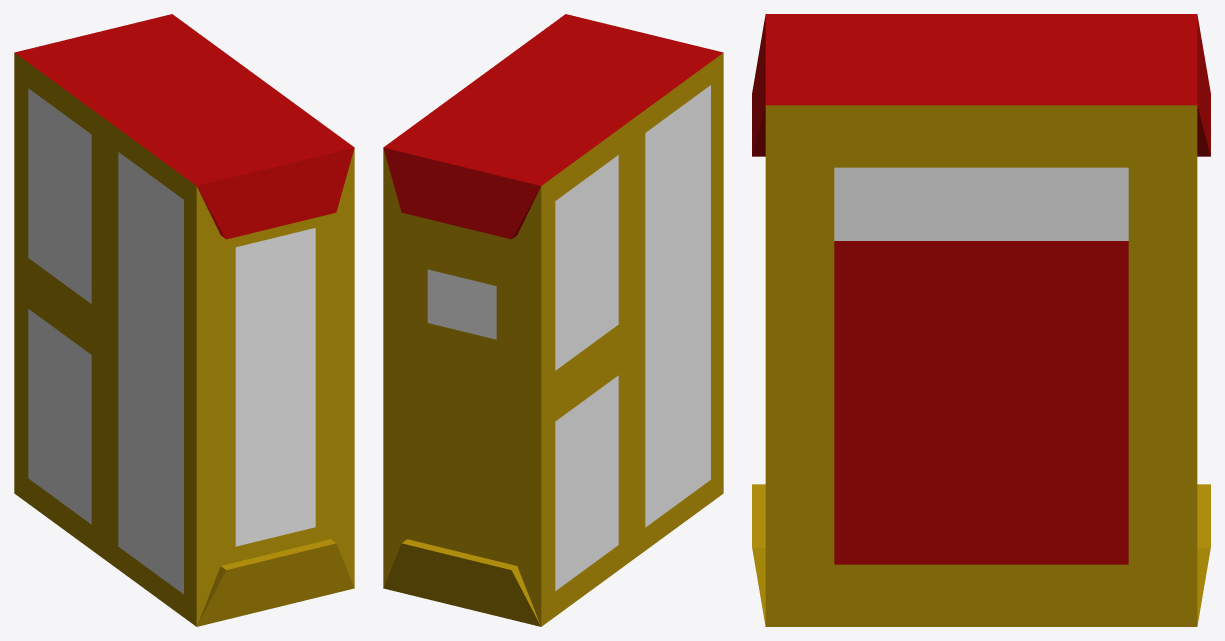
3 views of the same model, side by side, from view 1: azimuth 30°, elevation 25°; view 2: azimuth 150°, elevation 25°; view 3: azimuth 270°, elevation 25° (orthographic). The views are drawn at different scales.
Visible parts, largest first — view 1: Mesh_Box_05; view 2: Mesh_Box_05; view 3: Mesh_Box_05.
Part boxes in pixels (box(x1,y1,x2,y2)): Mesh_Box_05: box(14, 14, 354, 626); Mesh_Box_05: box(383, 14, 723, 626); Mesh_Box_05: box(752, 14, 1210, 626).
Bounding box in the file's own units: 0.12 × 0.32 × 0.255.
1 material, 1 textured.
